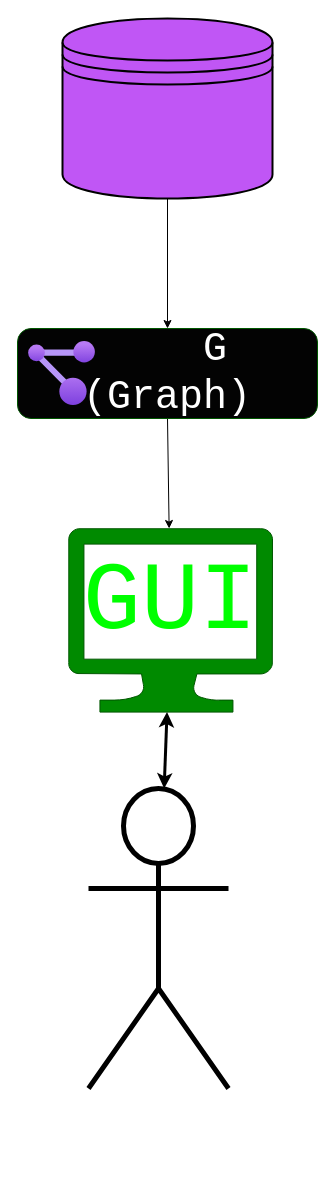
The diagram is 335 pixels wide and 1184 high, and some of its shapes have lost their labels. The box of each missing label's shape, as (x1, y1, x2, y2) in pixels:
Network Storage: (61, 17, 273, 199)
User: (86, 786, 230, 1090)
